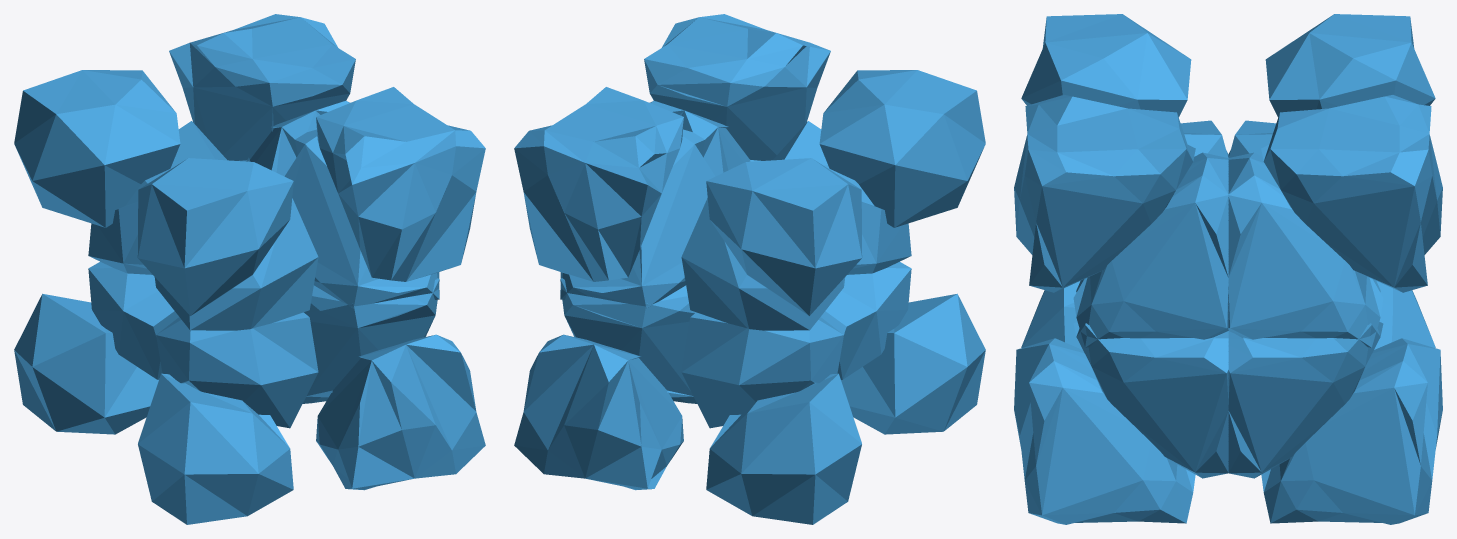
File: IceBlockBreak2.FBX
3 views of the same model, side by side, from view 1: azimuth 30°, elevation 25°; view 2: azimuth 150°, elevation 25°; view 3: azimuth 270°, elevation 25° (orthographic). The views are drawn at different scales.
Parts seen in each view (by area): view 1: Object012, Object008, Object014, Object006, Object011, Object001, Object017, Object002, Object009, Object004, Object013, Object003 (+2 smaller); view 2: Object011, Object006, Object016, Object008, Object012, Object017, Object001, Object003, Object010, Object005, Object015, Object002 (+2 smaller); view 3: Object012, Object011, Object014, Object016, Object009, Object010, Object013, Object015, Object008, Object006, Object001, Object017 (+2 smaller).
Boxes of the visible parts, x1,y1,x2,y2 form: Object012: [316, 87, 485, 281]; Object008: [14, 70, 180, 227]; Object014: [316, 334, 485, 490]; Object006: [137, 158, 293, 315]; Object011: [169, 14, 355, 161]; Object001: [138, 373, 293, 524]; Object017: [14, 293, 158, 434]; Object002: [153, 311, 318, 428]; Object009: [284, 129, 439, 308]; Object004: [154, 198, 318, 330]; Object013: [304, 278, 439, 397]; Object003: [88, 261, 174, 379]; Object011: [514, 87, 683, 281]; Object006: [819, 70, 985, 227]; Object016: [514, 334, 683, 490]; Object008: [706, 158, 862, 315]; Object012: [644, 14, 830, 161]; Object017: [706, 373, 861, 524]; Object001: [841, 293, 985, 434]; Object003: [681, 311, 846, 428]; Object010: [560, 129, 715, 308]; Object005: [681, 198, 845, 330]; Object015: [560, 278, 695, 397]; Object002: [825, 261, 911, 379]; Object012: [1014, 95, 1195, 292]; Object011: [1261, 95, 1442, 292]; Object014: [1014, 338, 1195, 524]; Object016: [1261, 338, 1442, 524]; Object009: [1073, 152, 1228, 347]; Object010: [1228, 152, 1383, 347]; Object013: [1073, 322, 1228, 478]; Object015: [1228, 322, 1383, 478]; Object008: [1265, 14, 1435, 117]; Object006: [1021, 14, 1191, 117]; Object001: [1021, 281, 1082, 349]; Object017: [1374, 281, 1435, 349].
Size of the model in its own units: 9.61 by 10.18 by 10.27.
